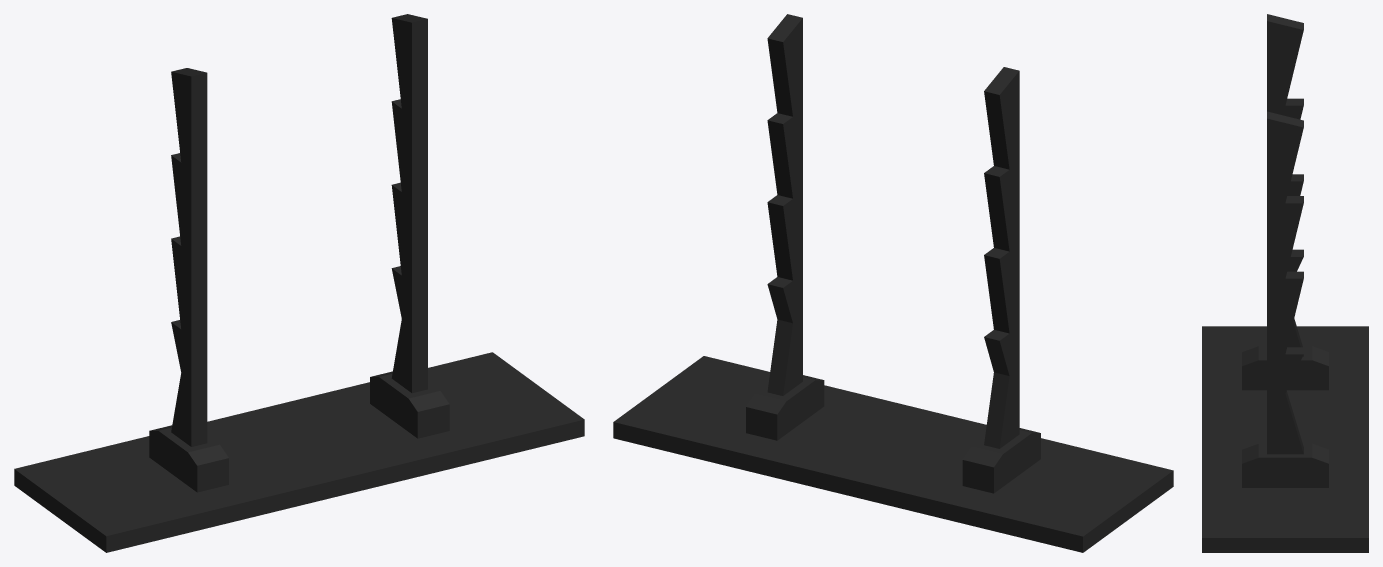
The model's file is holder-katana.glb.
3 renders of one model, left to right at view 1: azimuth 30°, elevation 25°; view 2: azimuth 150°, elevation 25°; view 3: azimuth 270°, elevation 25°, orthographic. The views are drawn at different scales.
Parts seen in each view (by area): view 1: holder-katana; view 2: holder-katana; view 3: holder-katana.
Boxes of the visible parts, <box> form: holder-katana: <box>14,14,584,552</box>; holder-katana: <box>613,14,1173,552</box>; holder-katana: <box>1202,14,1368,552</box>.
Size of the model in its own units: 1.5 by 1.26 by 0.5002.
1 material, 1 textured.
